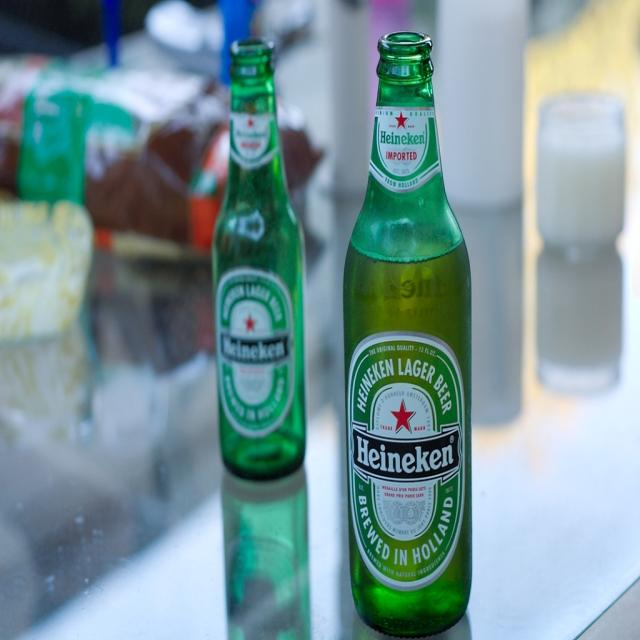heineken: (349, 333, 465, 590), (217, 270, 297, 437)
